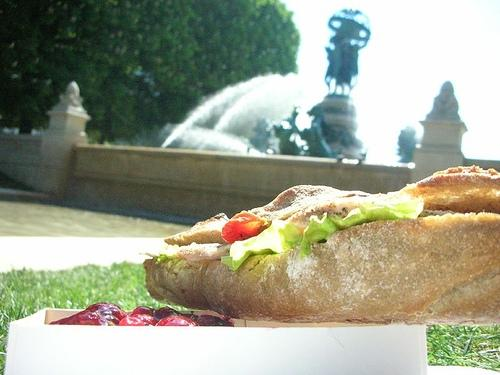lettuce: (300, 190, 424, 261), (220, 218, 302, 272), (152, 244, 180, 264)
tomato: (222, 212, 264, 244)
